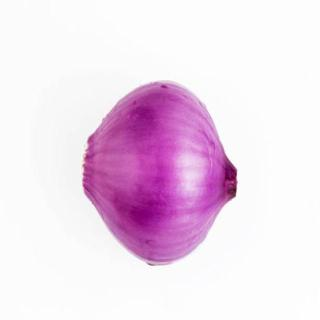Bawang Merah: (78, 78, 238, 270)
